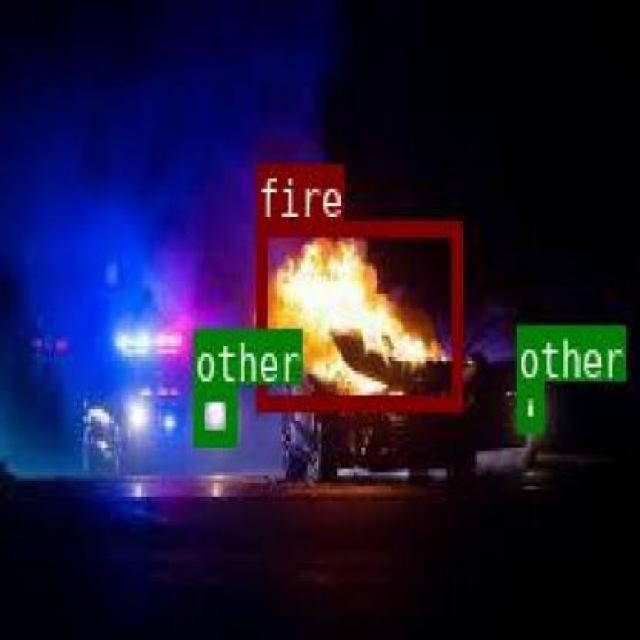Fire: (255, 219, 460, 407)
